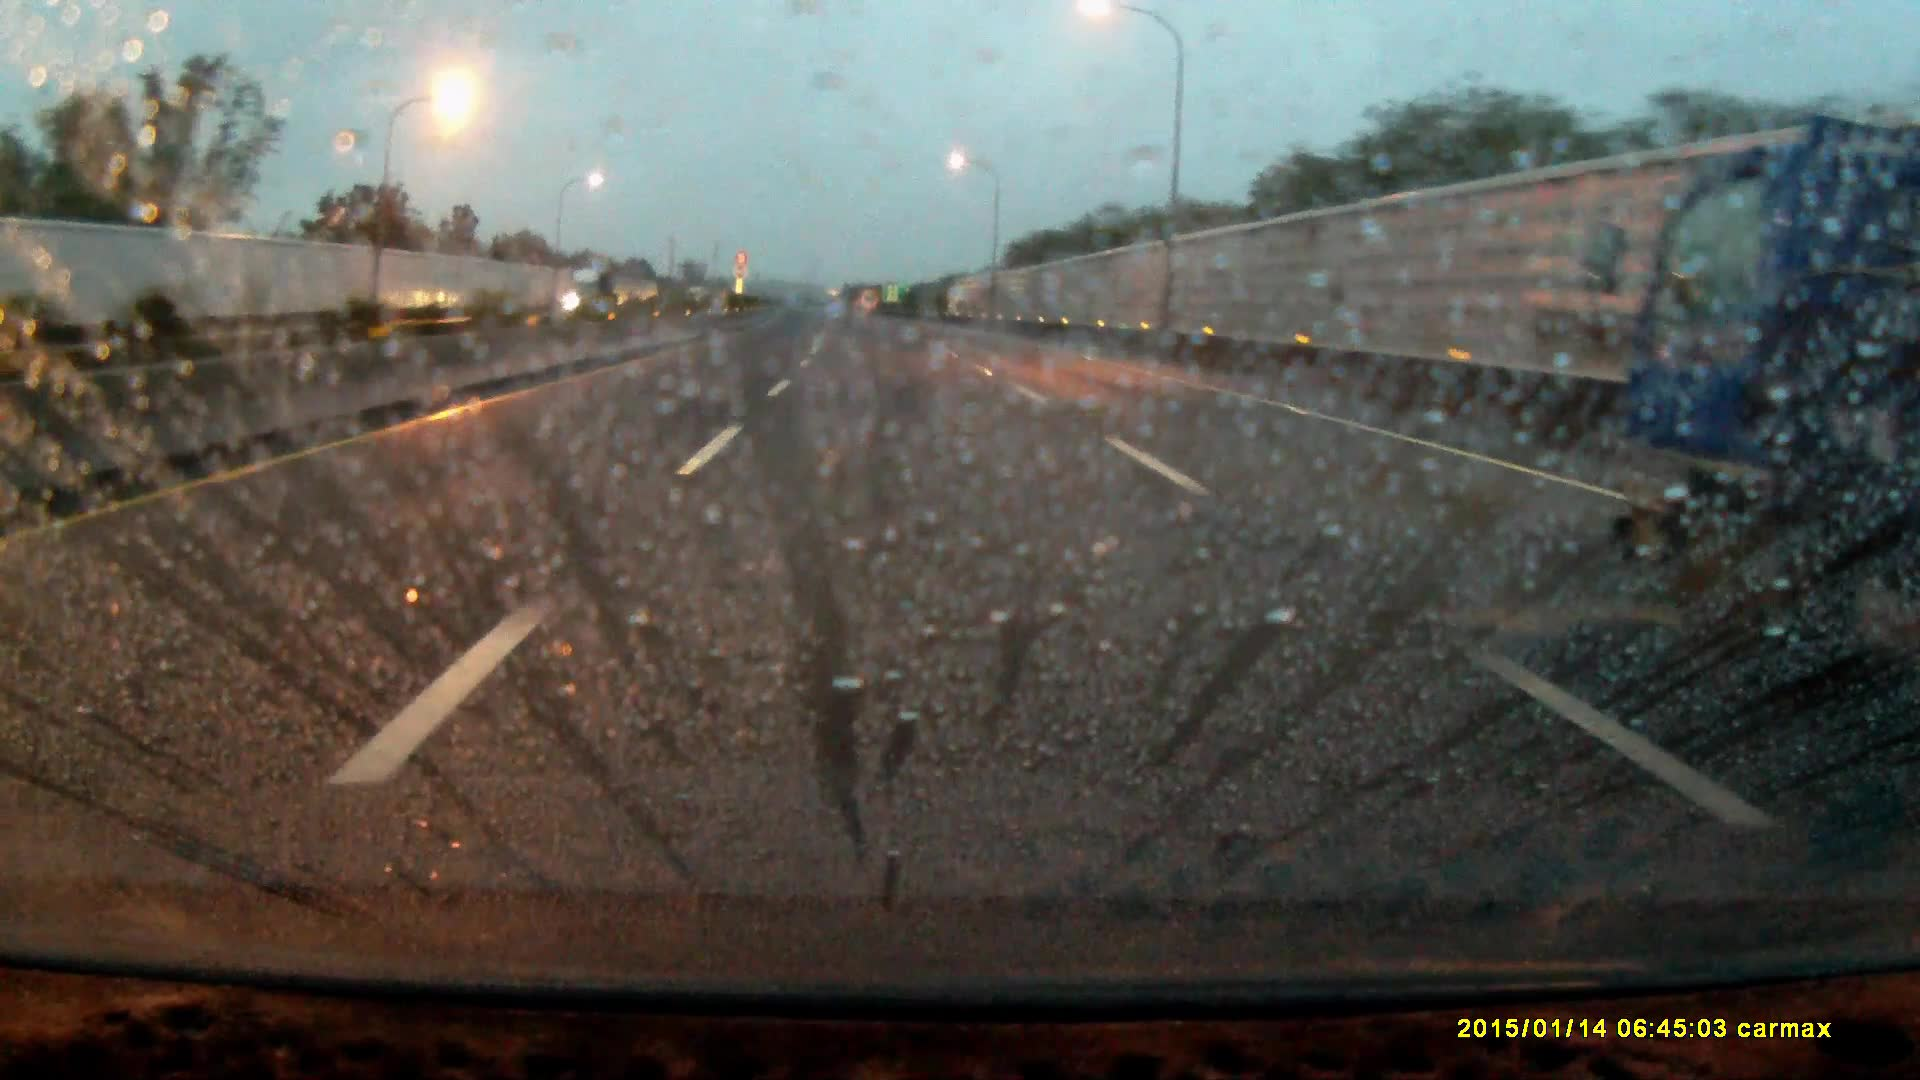vehicle: (1604, 136, 1920, 607), (570, 269, 613, 314)
